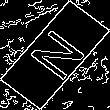N_SE: (20, 24, 90, 86)
